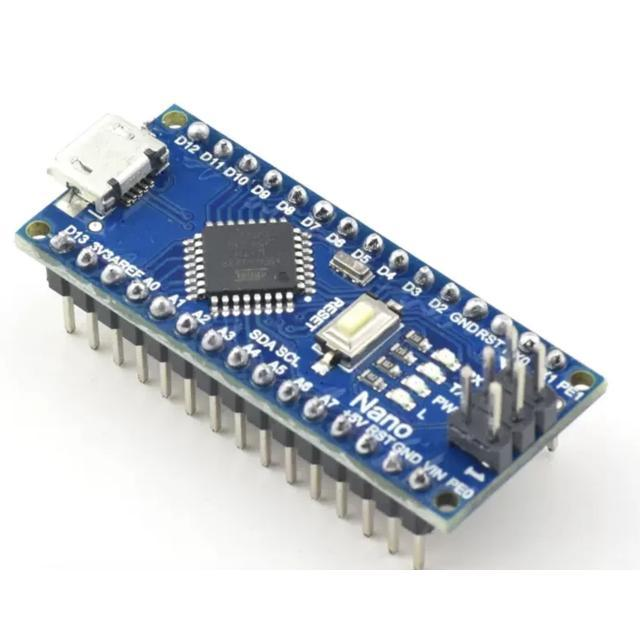Arduino-Nano: (17, 105, 607, 569)
